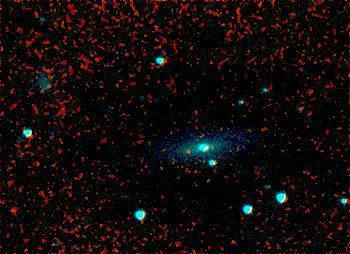star: (169, 135, 199, 165)
